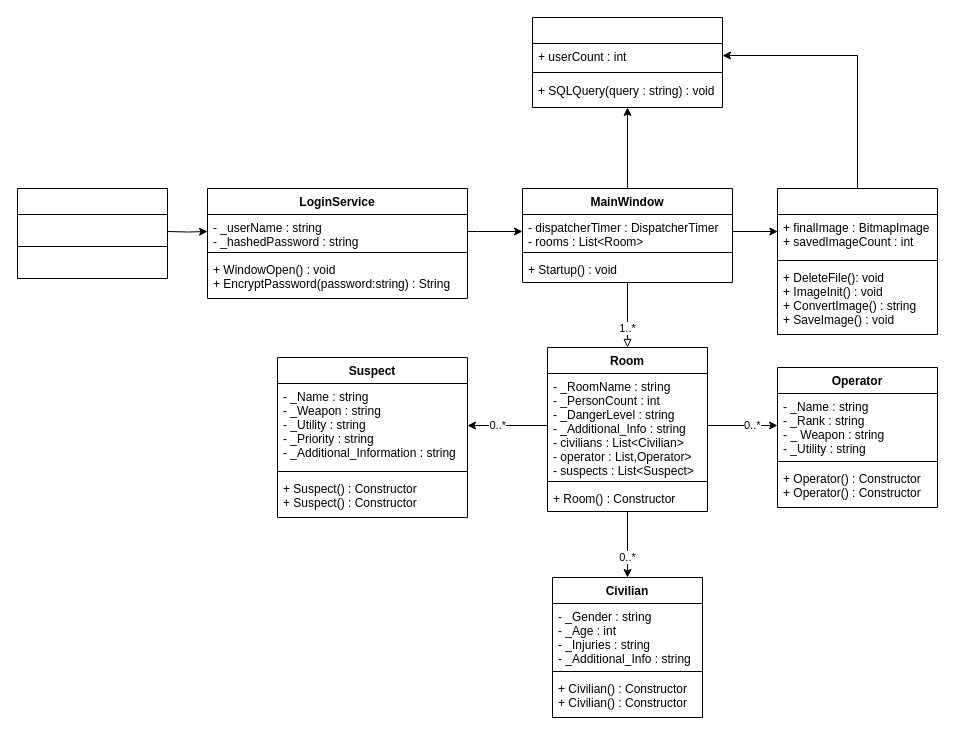
Some shapes in this 955 by 738 pixel diagram are drawn without their labels. Here are the shapes that lost their labels. From the top down, the box of each, then its label:
(532, 16, 722, 108): DataLayer
(16, 188, 168, 278): LoginWindow
(776, 188, 938, 334): File_Services
